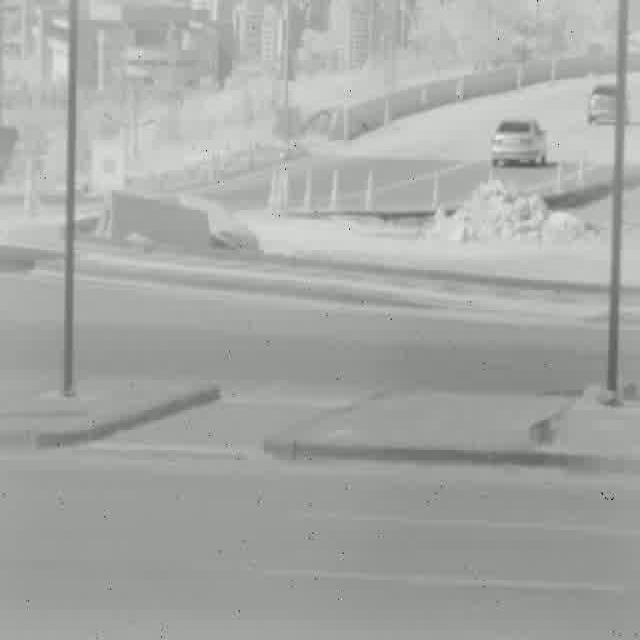Car: (491, 119, 546, 166), (586, 84, 628, 126)
